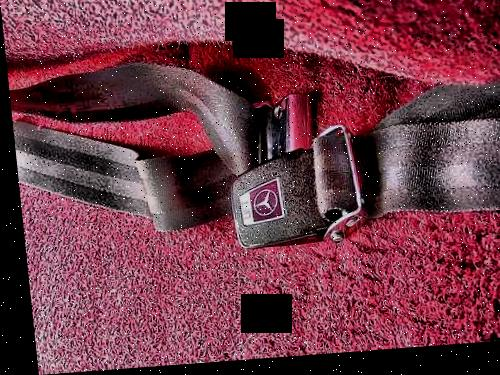seatbelt: (15, 34, 500, 268)
